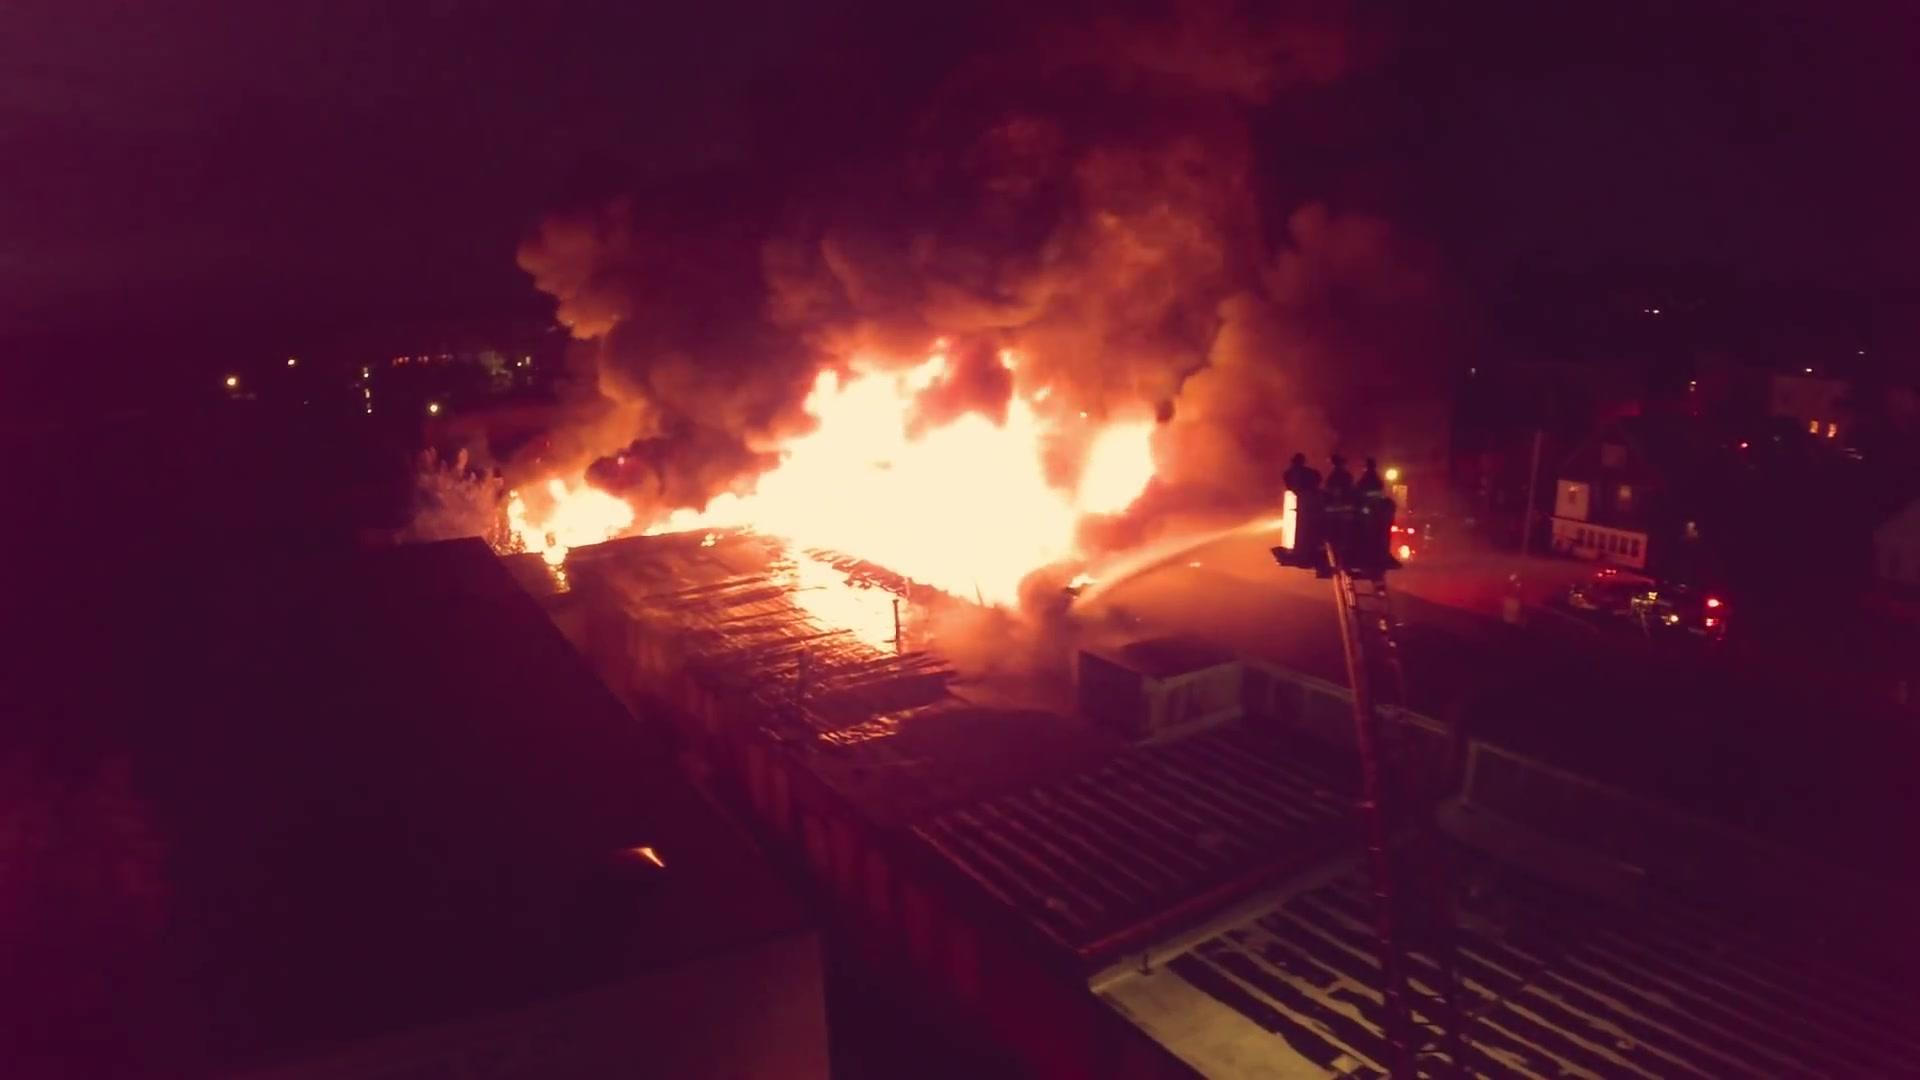fire: (752, 347, 1104, 578), (510, 469, 637, 565), (1072, 403, 1166, 531), (649, 495, 747, 539)
smoke: (792, 0, 1277, 340), (517, 182, 789, 466), (1175, 209, 1447, 483)
